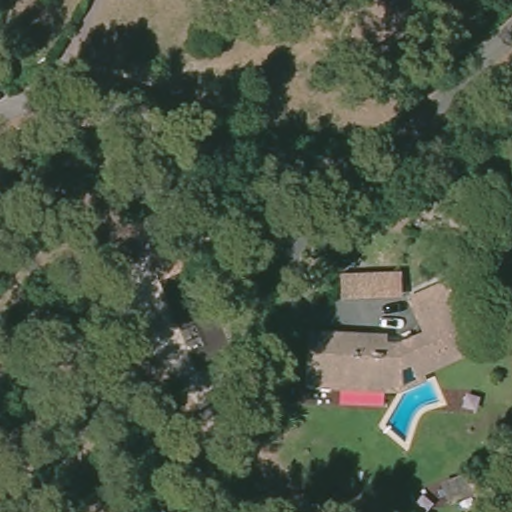pool: (379, 377, 444, 446)
